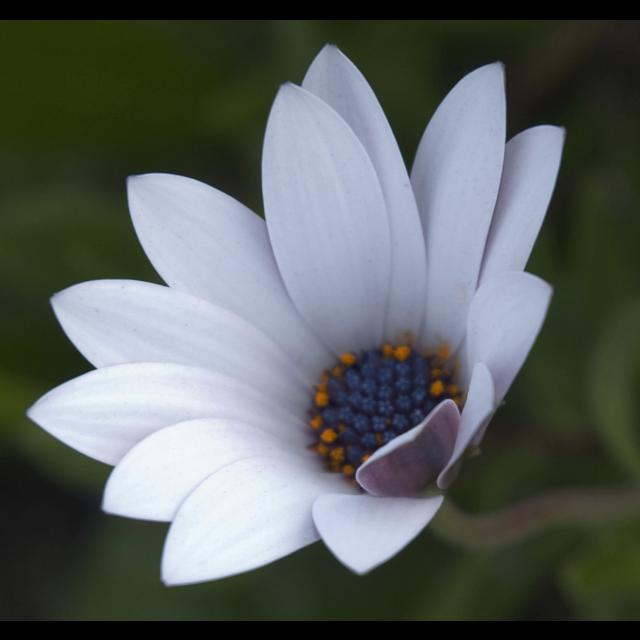Flower: (31, 28, 587, 602)
